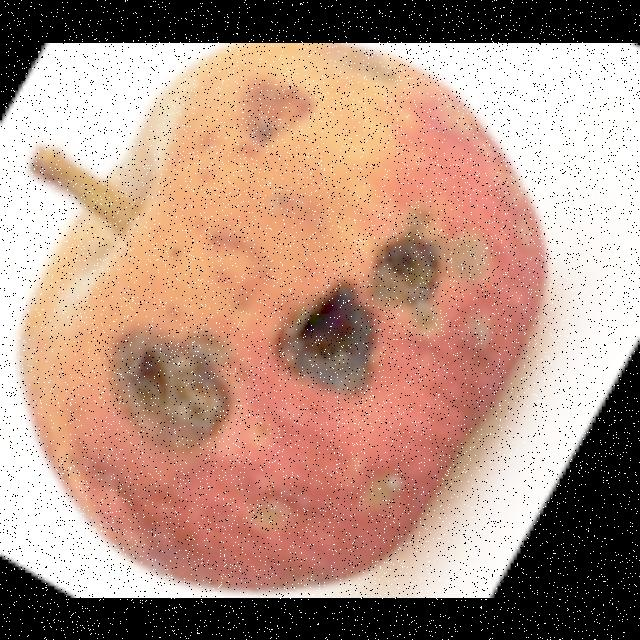Apel Tidak Segar: (7, 42, 555, 598)
